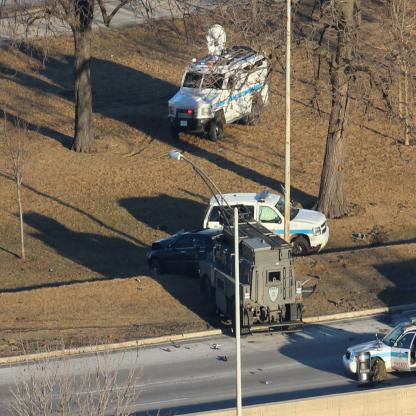Car: (203, 185, 330, 258), (344, 319, 416, 381), (148, 227, 224, 277)
